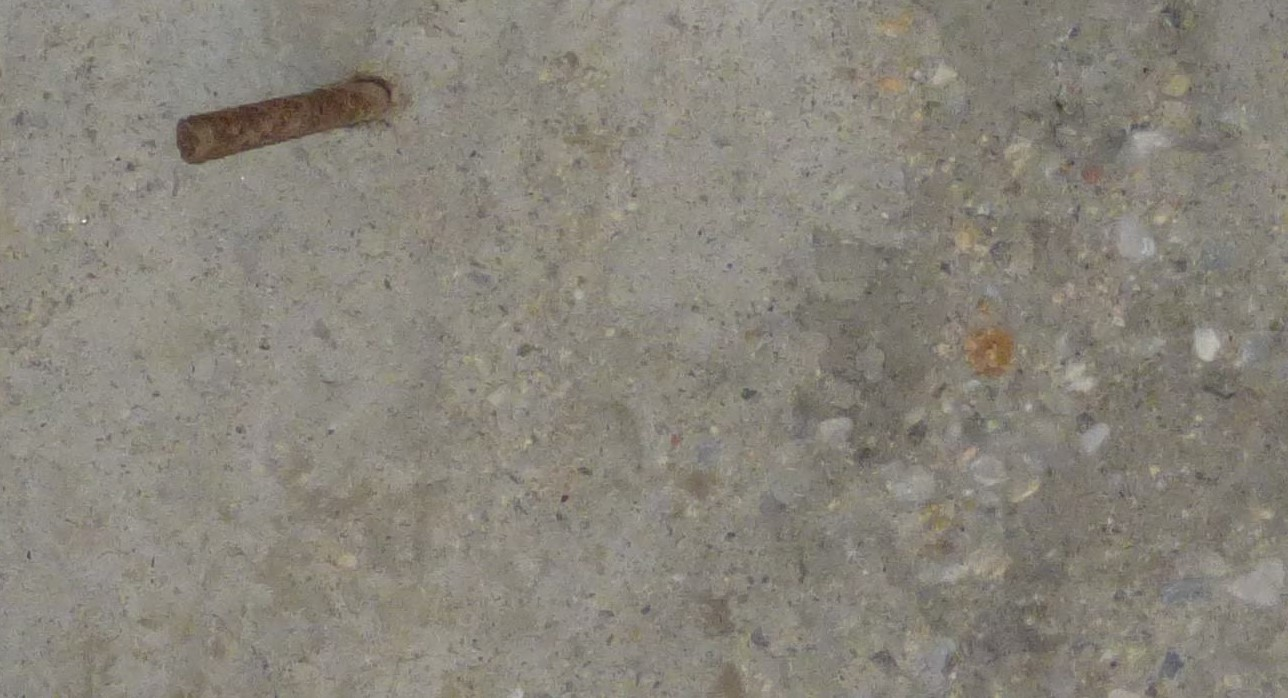Exposed reinforcement: (175, 81, 390, 165)
